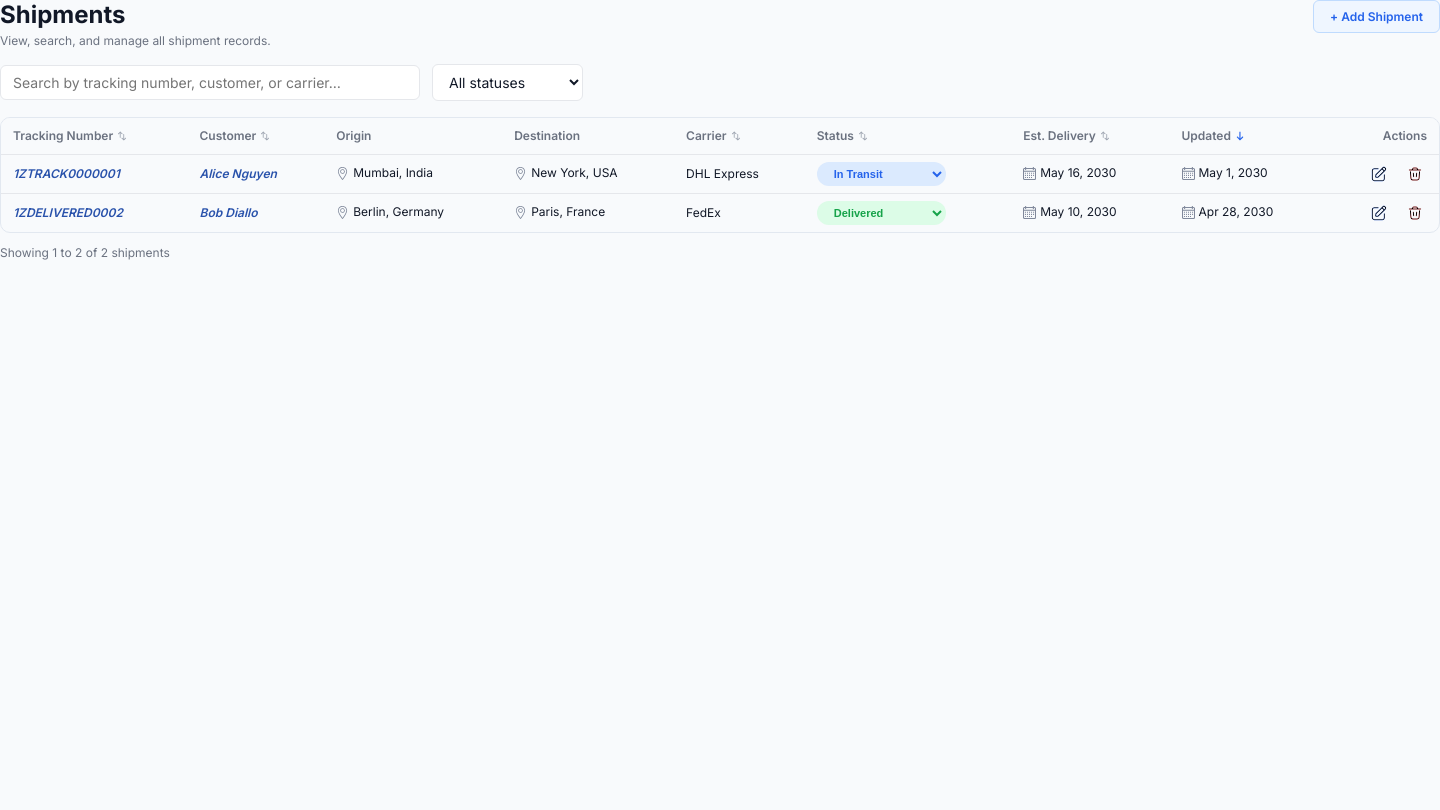
Test: ShipmentManager › deletes a shipment after confirming, and shows the backend message on a 409 conflict
Expected: the button "1ZTRACK0000001" is shown, [13,168,120,180]
Click the button named "Delete" in the row of "Mumbai, India": (1415,174) [1403,162,1427,186]
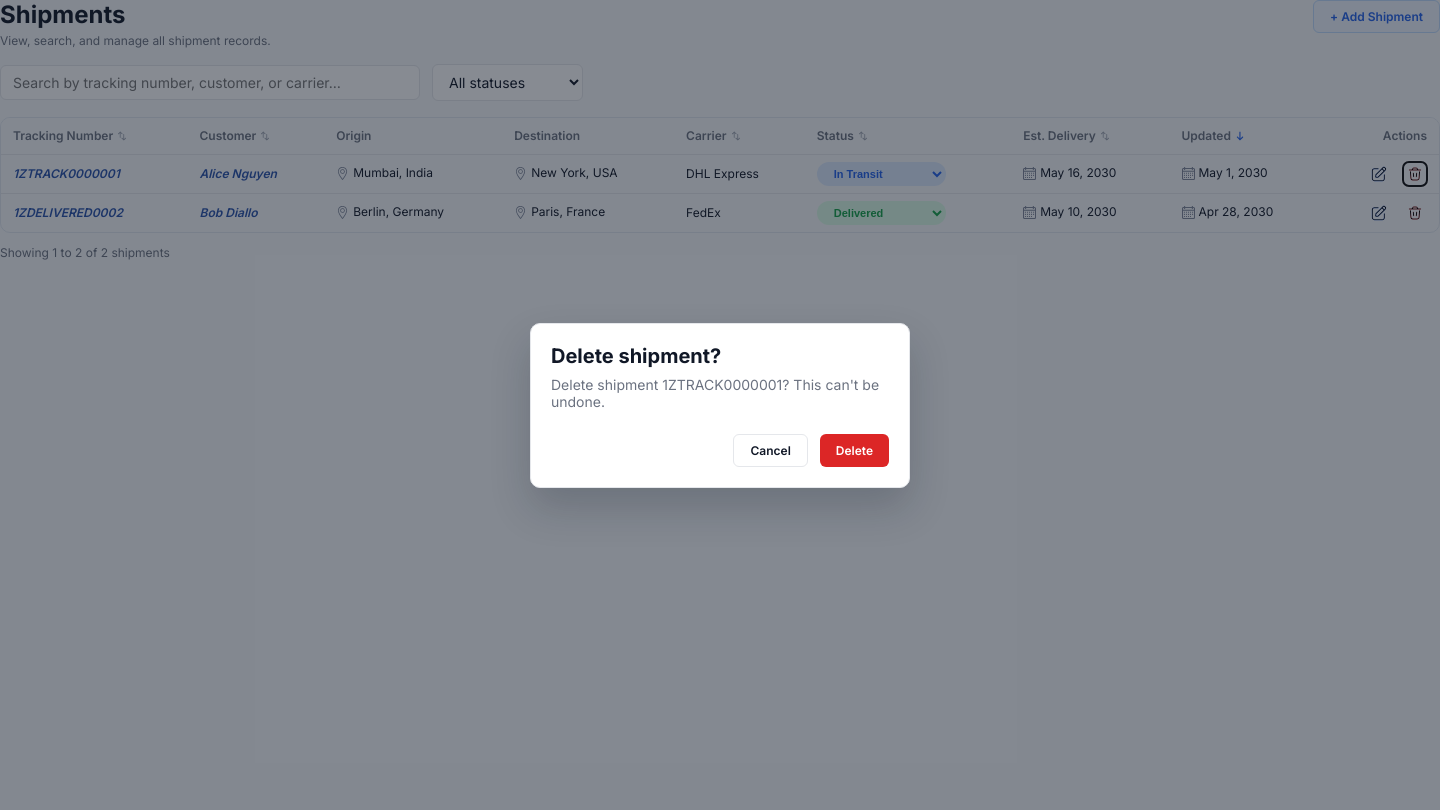
Click the button "Delete": (854,450) [820,434,889,466]
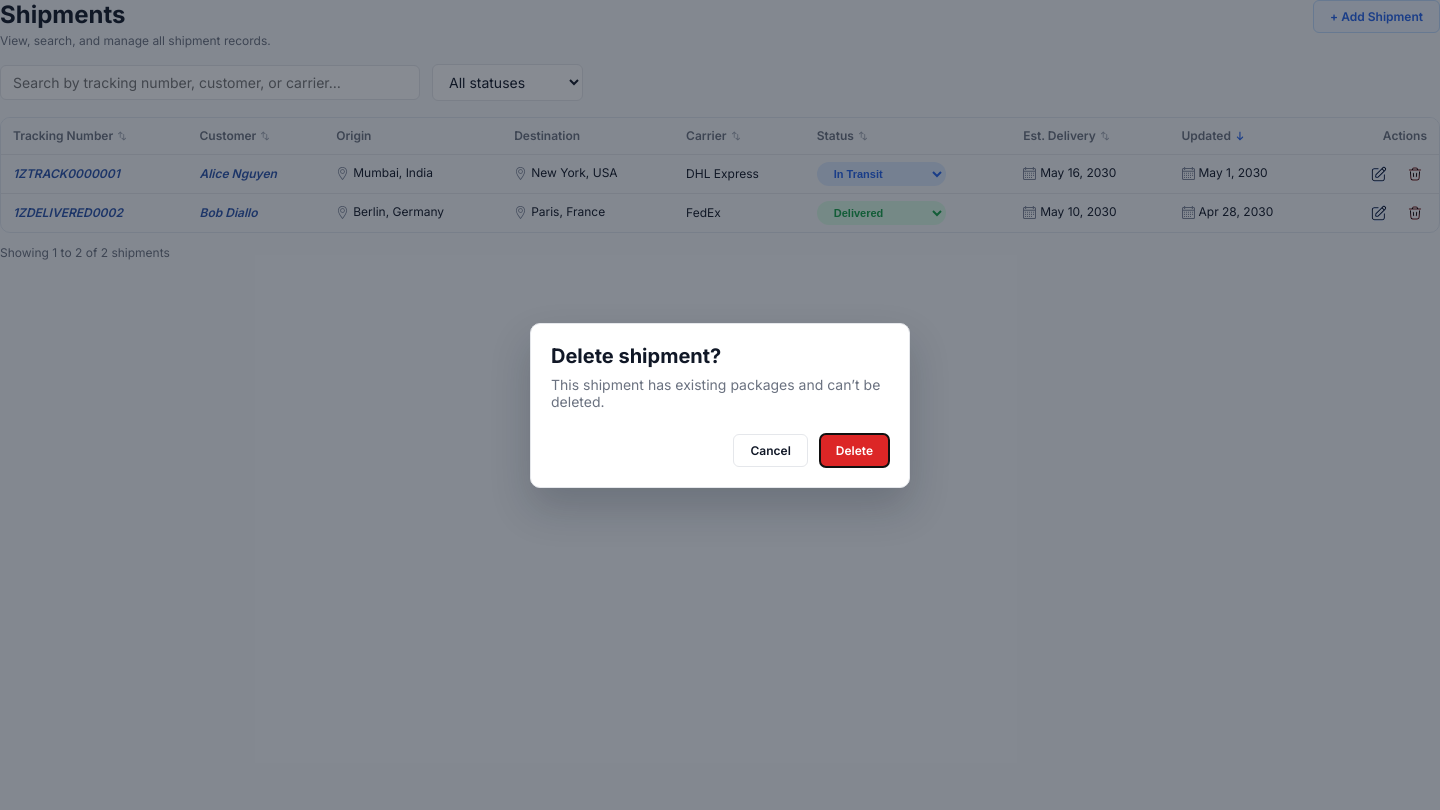
Expected: the text "This shipment has existing packages and can’t be deleted." is shown, [551,376,889,410]
